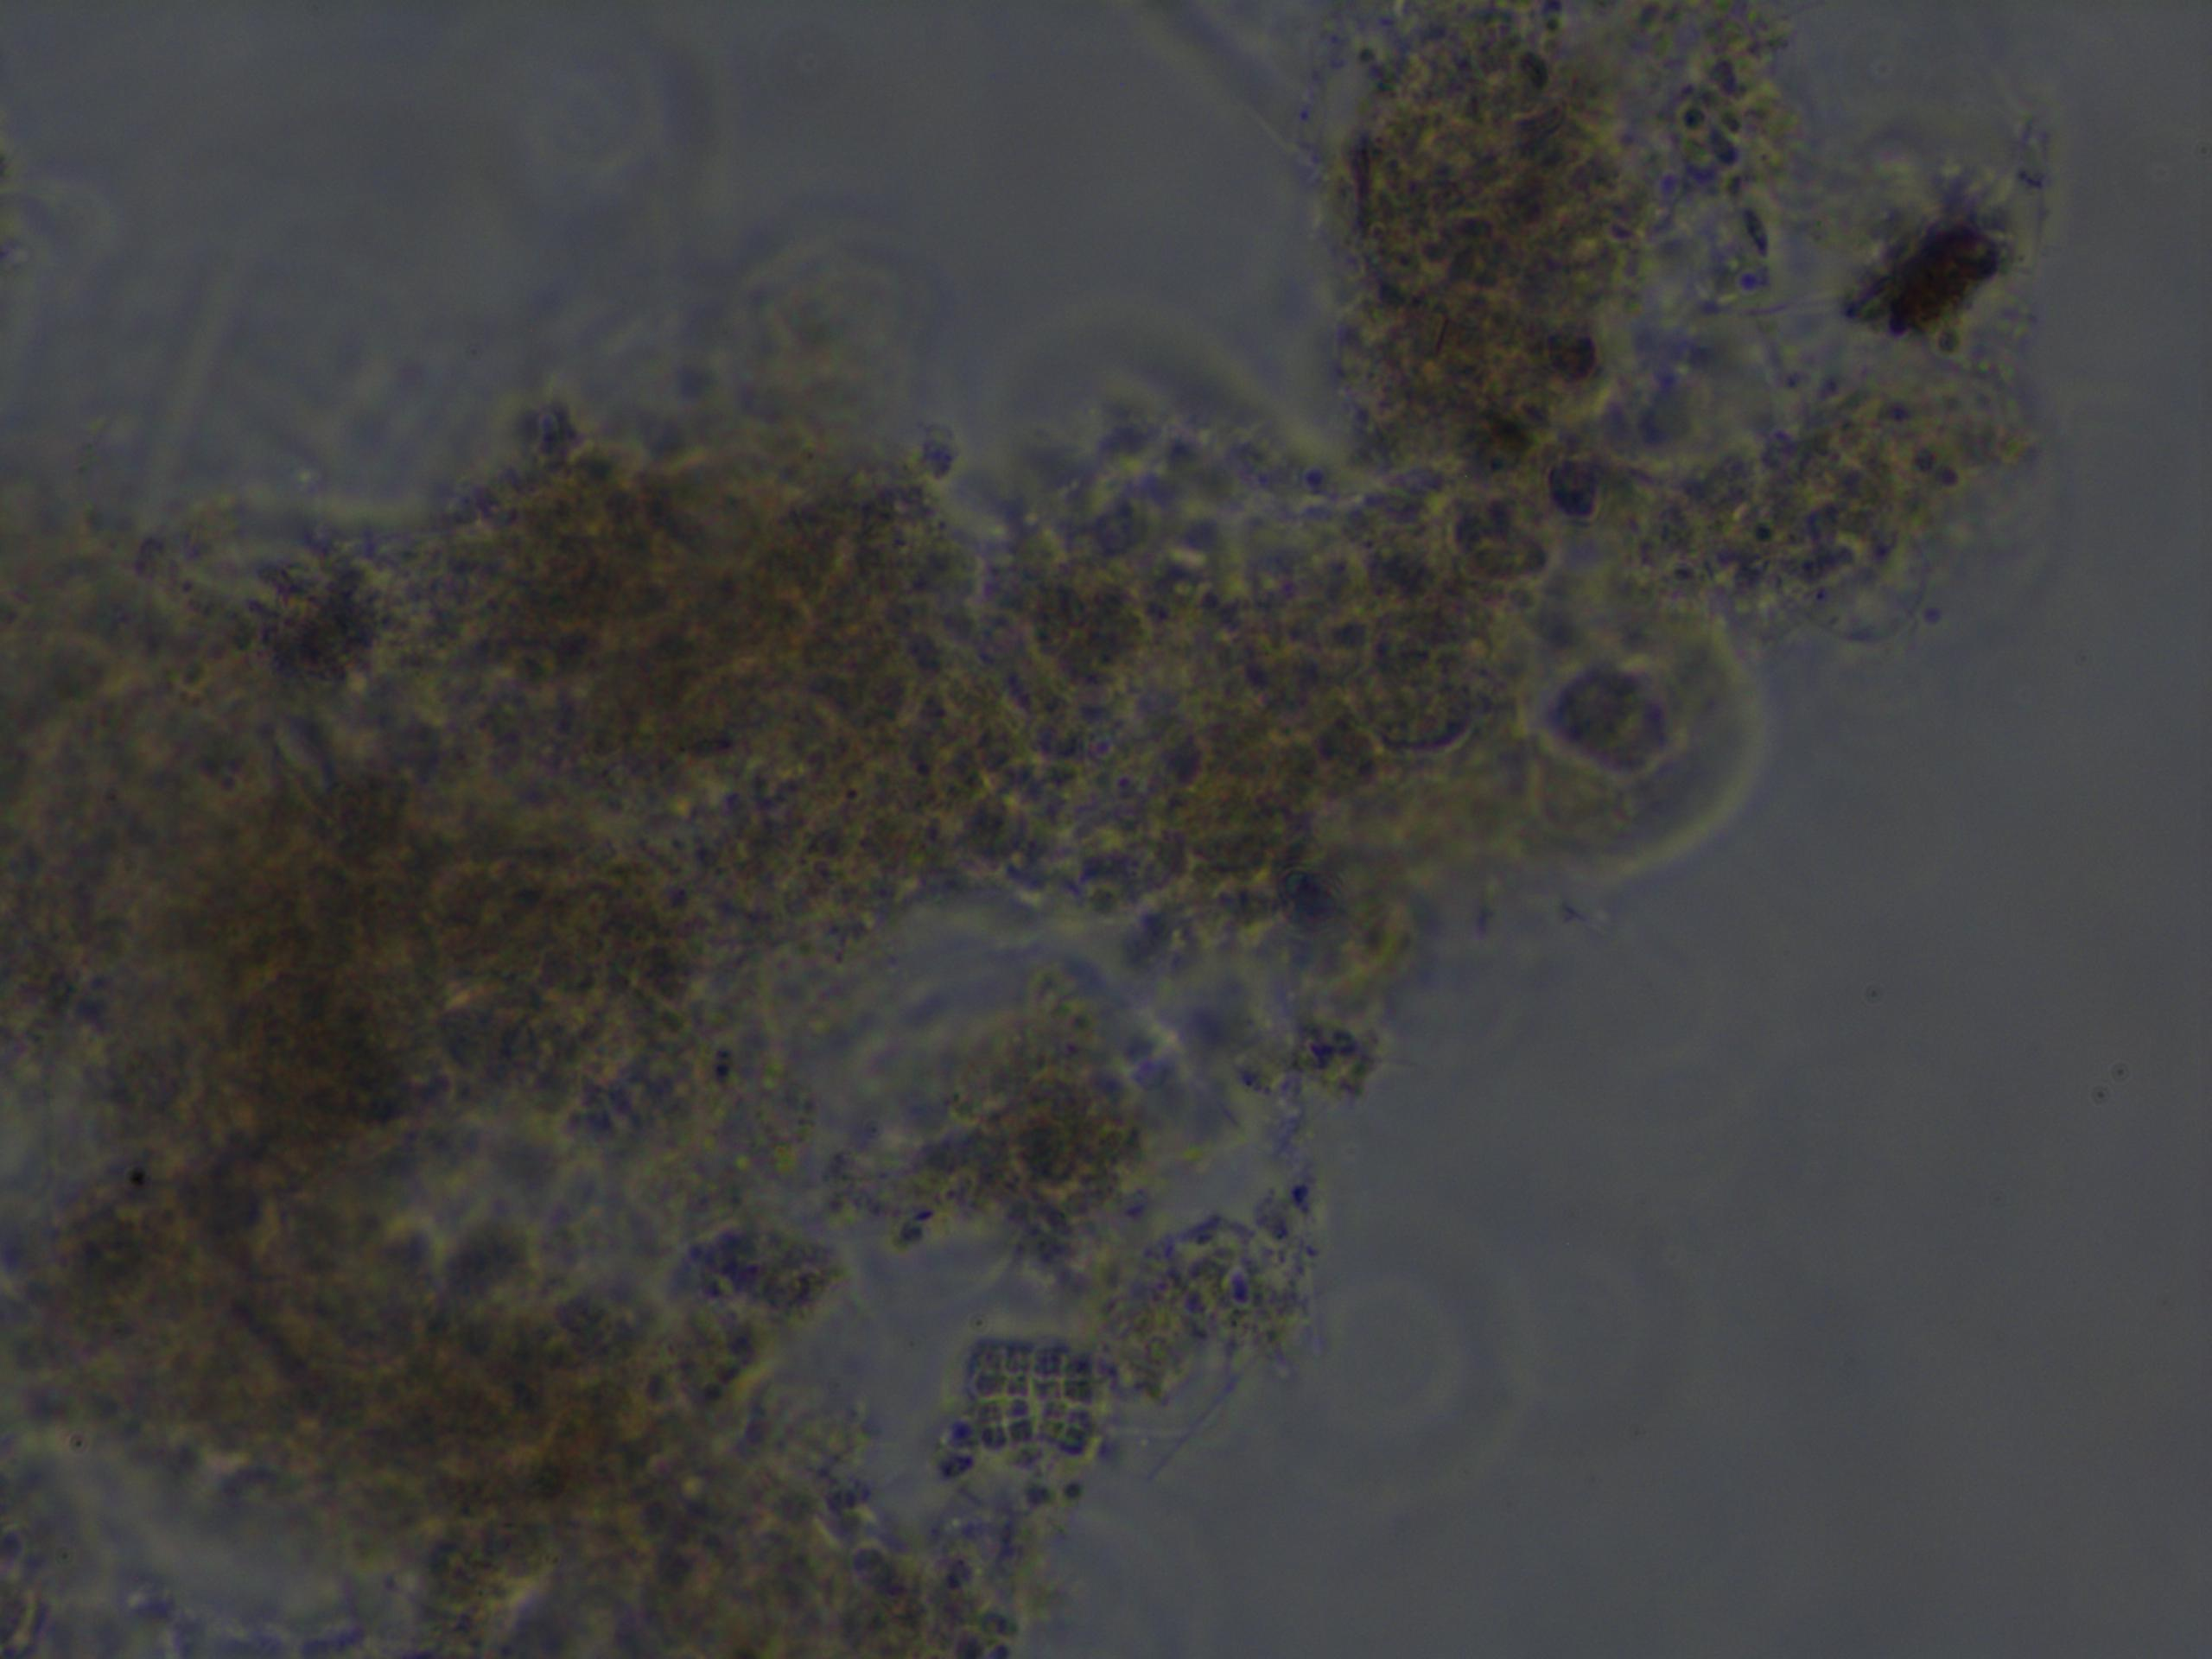open_floc: (0, 9, 2040, 1659)
